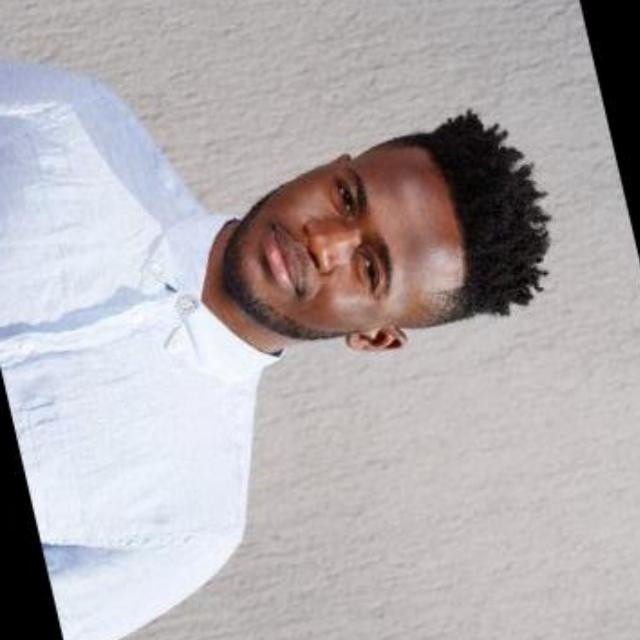Natural: (199, 116, 506, 375)
